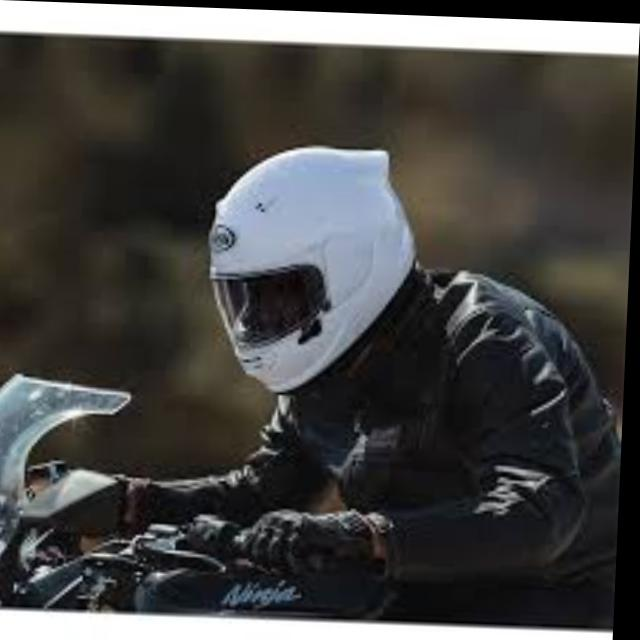motorcycle-helmets: (208, 148, 418, 392)
